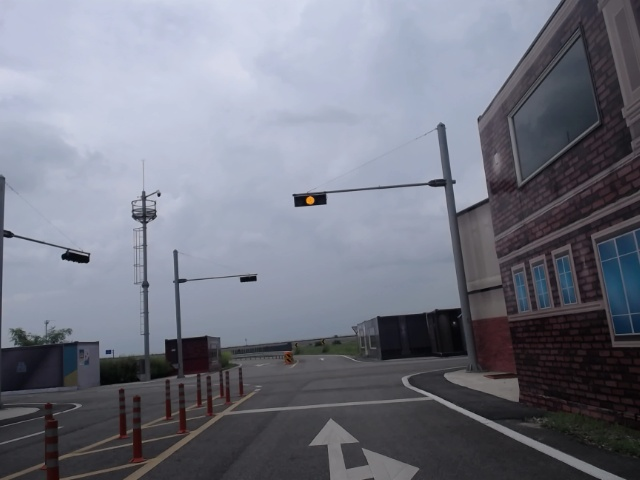orange_3: (294, 193, 327, 207)
